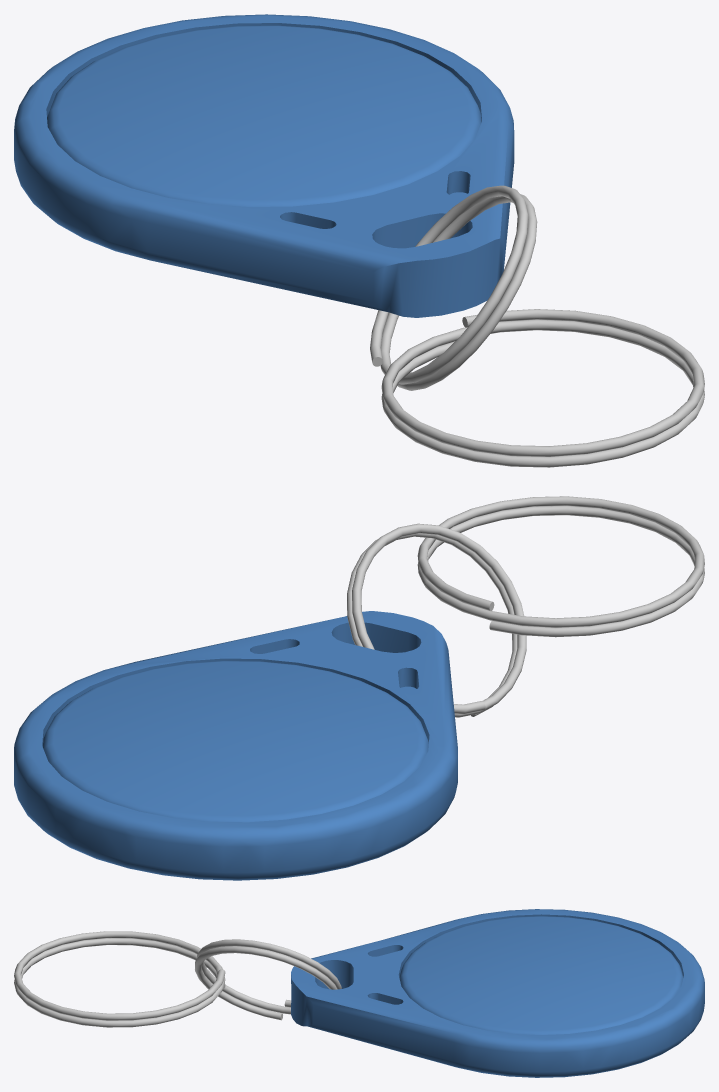
File: Llavero Tag RFID.fbx
The picture shows the model from 3 angles, top to bottom: view 1: azimuth 30°, elevation 25°; view 2: azimuth 150°, elevation 25°; view 3: azimuth 270°, elevation 25°; orthographic projection. The views are drawn at different scales.
Visible parts, largest first — view 1: Boole, Llavero_1_v4; view 2: Boole, Llavero_1_v4; view 3: Boole, Llavero_1_v4.
Part boxes in pixels (x1,y1,x2,y2): Boole: (14,14,514,317); Llavero_1_v4: (370,185,704,467); Boole: (14,611,457,880); Llavero_1_v4: (347,496,704,717); Boole: (291,909,704,1077); Llavero_1_v4: (14,931,341,1027).
Size of the model in its own units: 3.21 by 1.21 by 6.78.
